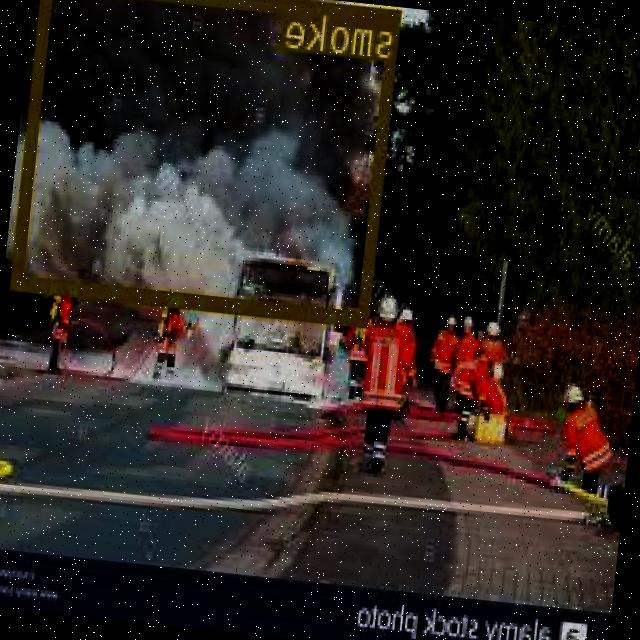smoke: (13, 0, 404, 324)
